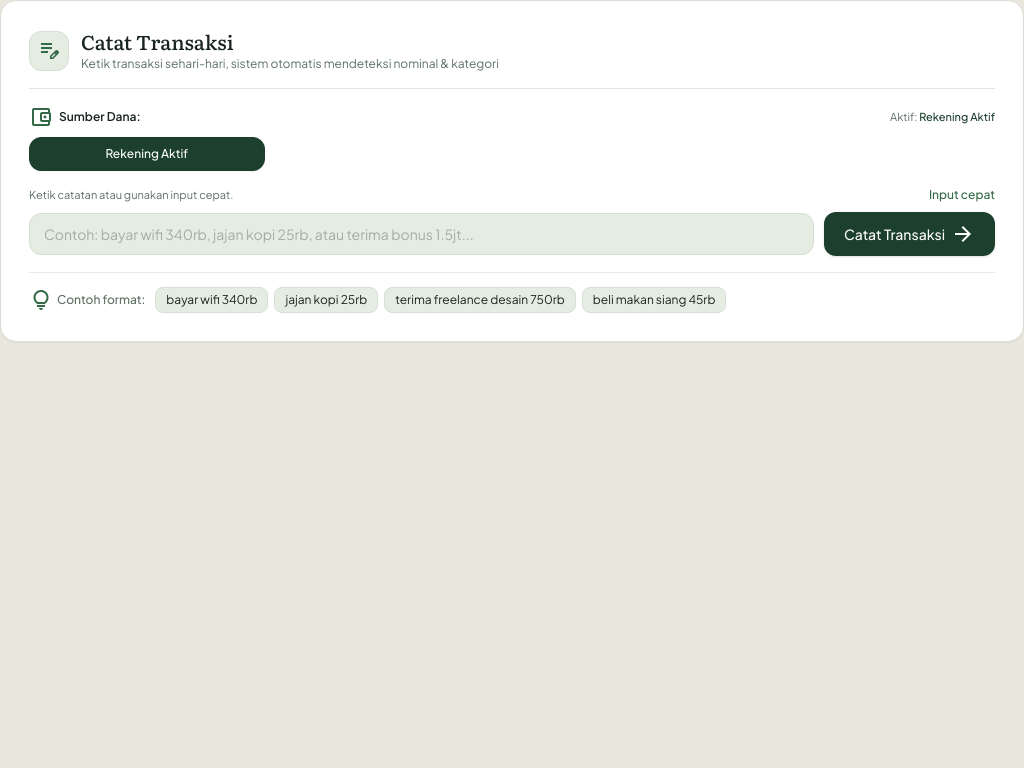
CatatTransaksiSection save flow › discards uncommitted edits with Batal edit
The width and height of the screenshot is (1024, 768).
Click the button "Rekening Aktif".
click(147, 154)  # box [29,137,264,171]
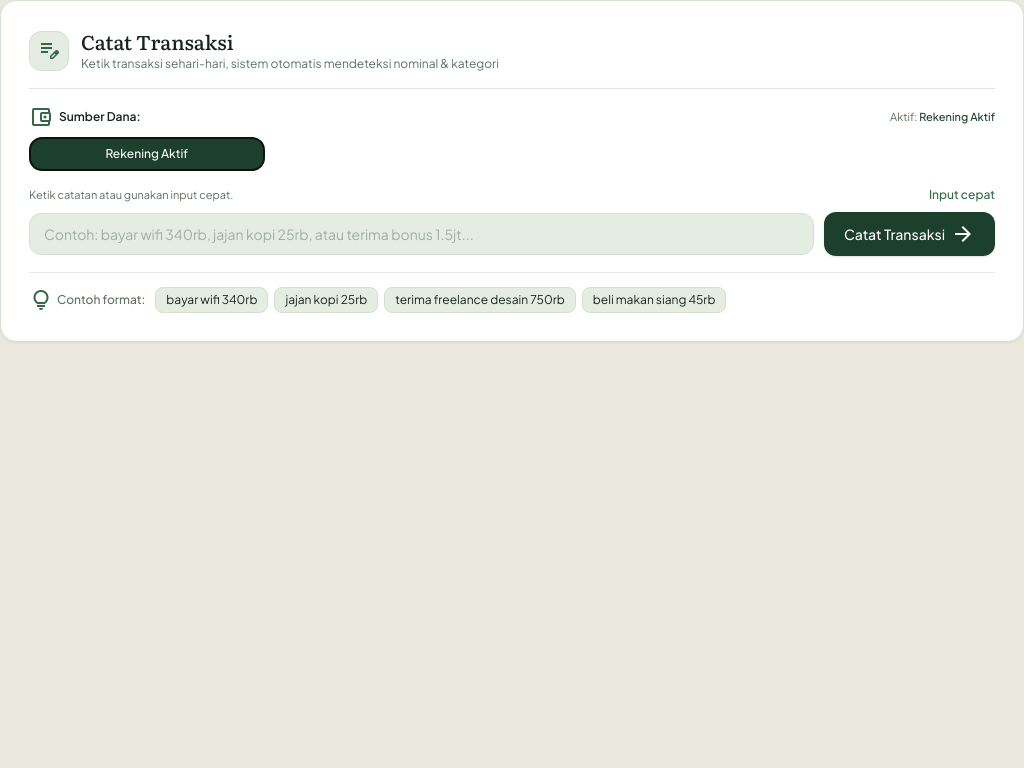
Type "jajan kopi 25rb" into the field with placeholder "Contoh: bayar wifi".
click(422, 234); type("jajan kopi 25rb")  # box [29,212,814,254]
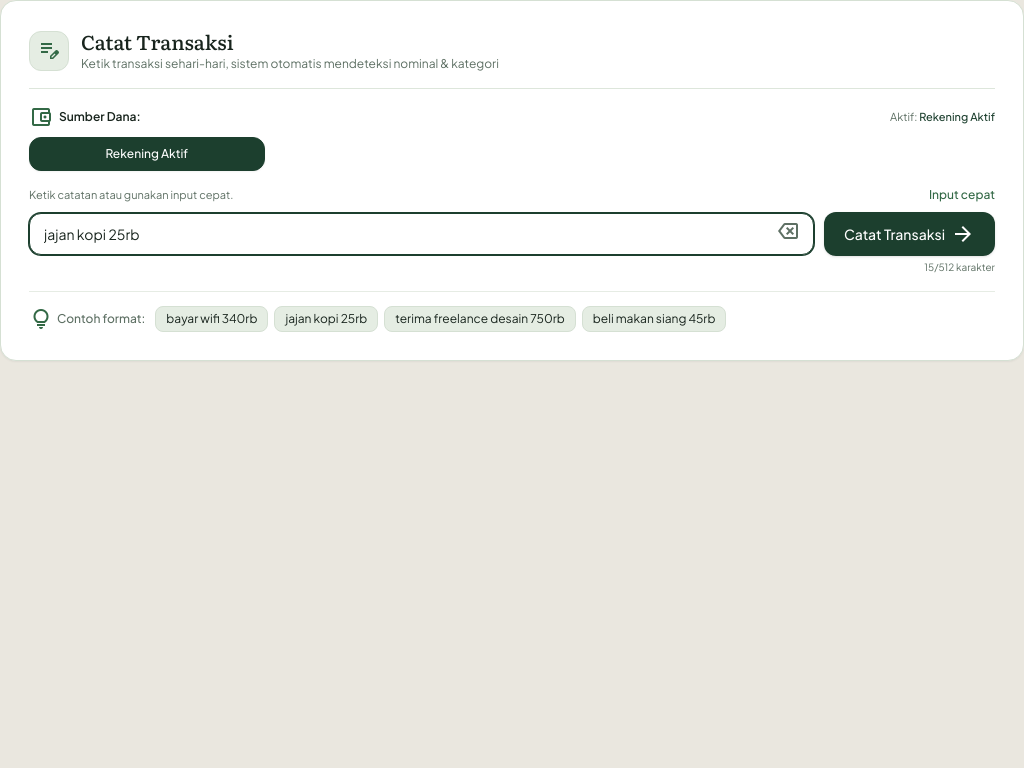
Click the button "Catat Transaksi".
click(910, 234)  # box [824,212,995,256]
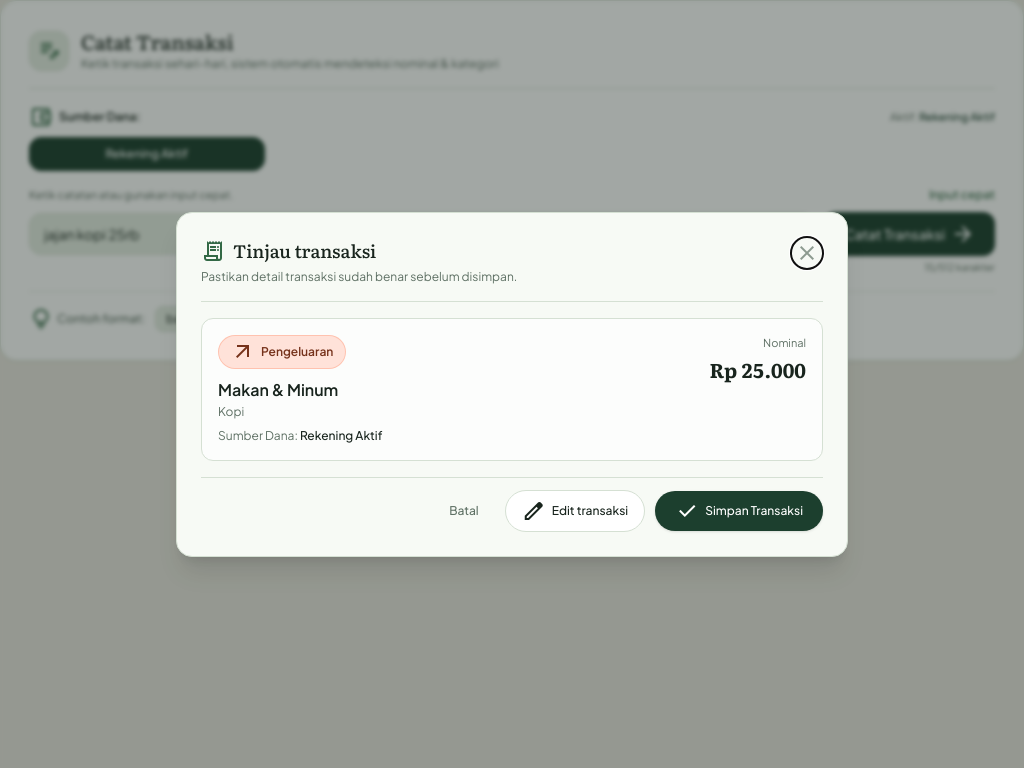
Now the button "Simpan Transaksi" is shown, box [655,490,823,530]
Click the button "Edit transaksi".
click(575, 510)  # box [505,490,645,532]
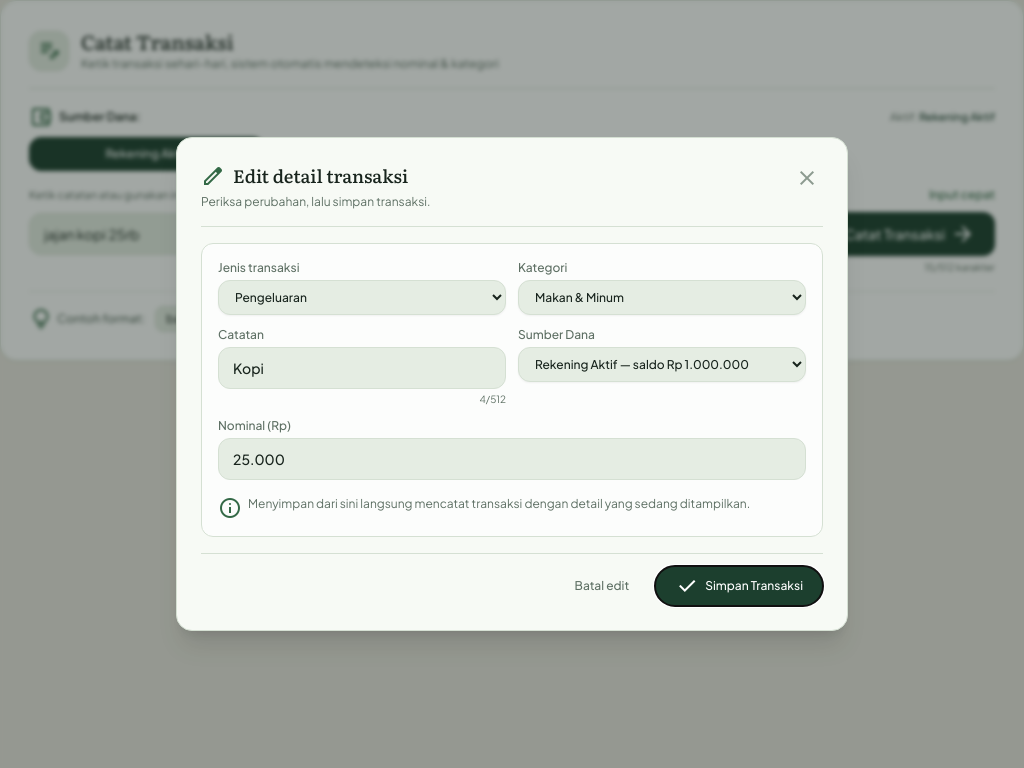
Select "Belanja" in the dropdown named "Kategori transaksi" at (662, 297), box [518,280,806,315]
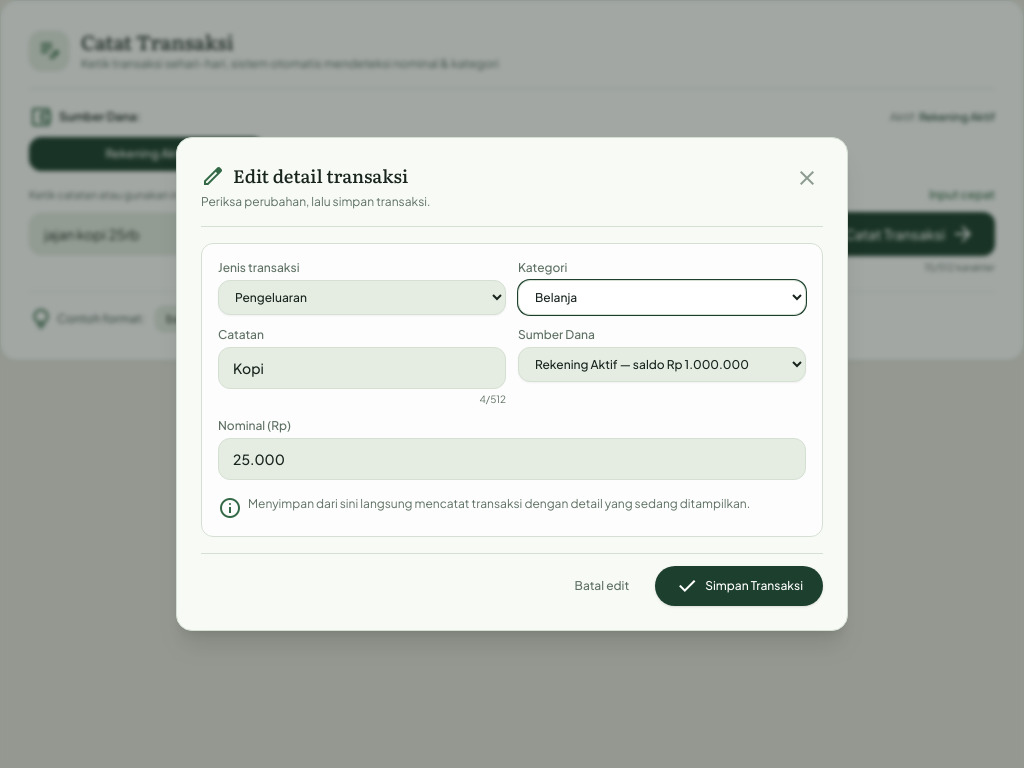
Click the button "Batal edit".
click(602, 586)  # box [559,570,645,602]
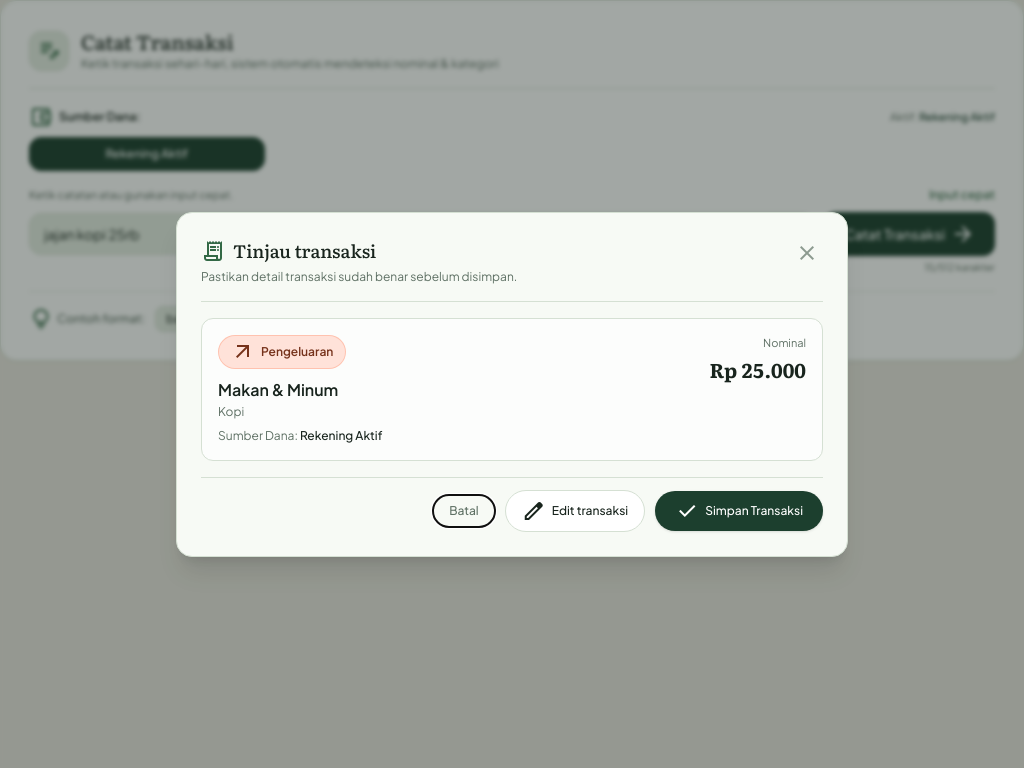
Now the heading "Makan & Minum" is shown, box [218,378,338,400]
Now the heading "Edit detail transaksi" is gone
